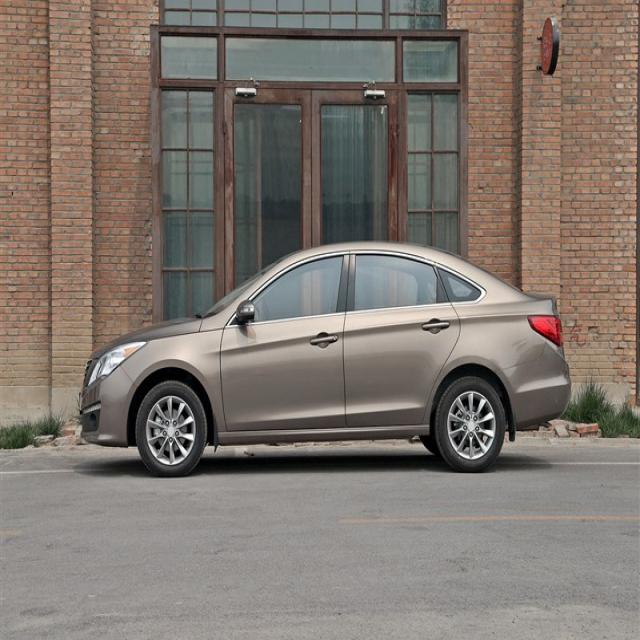back_left_side_light: (527, 313, 564, 345)
door: (340, 248, 464, 432)
front_bumper: (78, 367, 138, 448)
front_left_side_door: (219, 245, 351, 435)
front_left_side_light: (87, 338, 148, 389)
front_left_side_mirror: (234, 298, 257, 327)
rear_bumper: (495, 340, 572, 433)
wheel: (434, 375, 506, 473), (137, 380, 207, 478)
